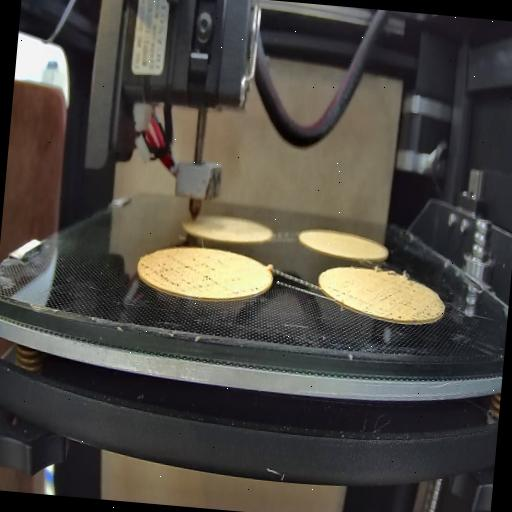under_extrusion: (138, 253, 221, 292), (375, 286, 431, 322), (228, 276, 258, 298), (326, 290, 360, 306)
